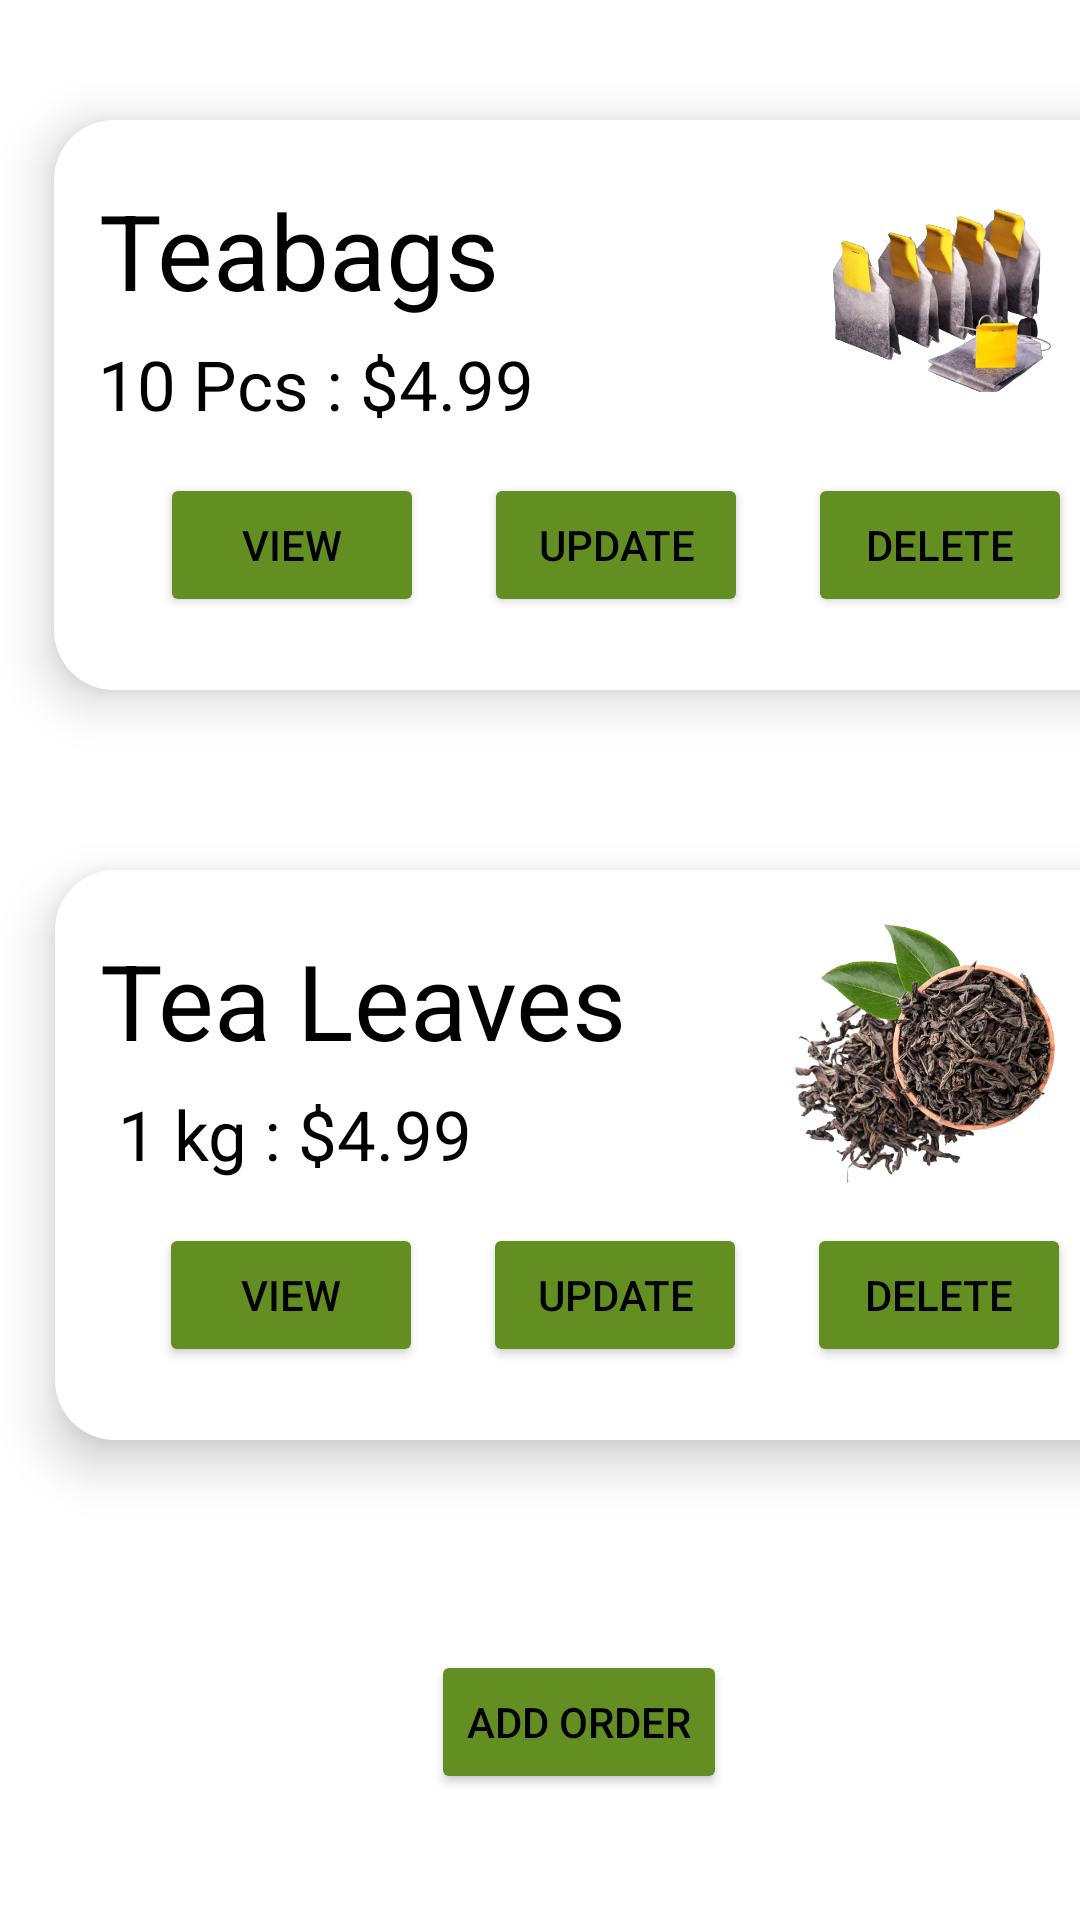

Point at icon controls on the screen. Image size 1080x1920, points as [x,y].
teabag: [942,300]
